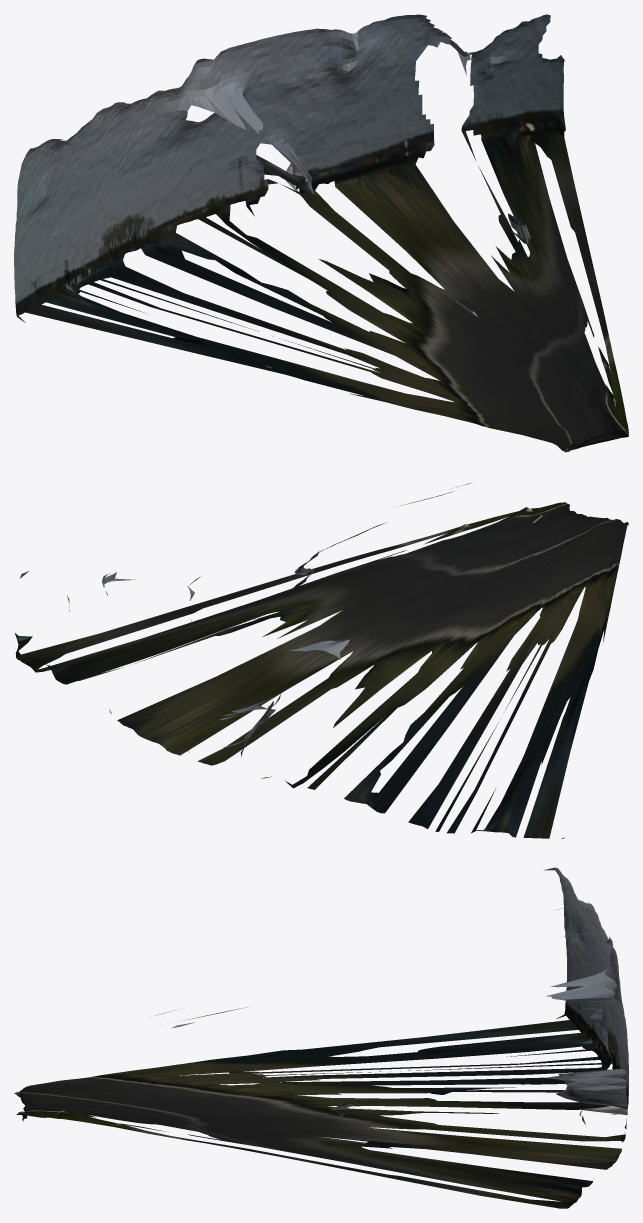
The picture shows the model from 3 angles, top to bottom: view 1: azimuth 30°, elevation 25°; view 2: azimuth 150°, elevation 25°; view 3: azimuth 270°, elevation 25°; orthographic projection. The views are drawn at different scales.
Parts seen in each view (by area): view 1: defaultobject; view 2: defaultobject; view 3: defaultobject.
Part boxes in pixels (x1,y1,x2,y2): defaultobject: [14, 14, 628, 452]; defaultobject: [15, 482, 628, 838]; defaultobject: [14, 867, 628, 1208].
Bounding box in the file's own units: 41.11 × 13.83 × 44.62.
Materials: 1 (1 with a texture image).
